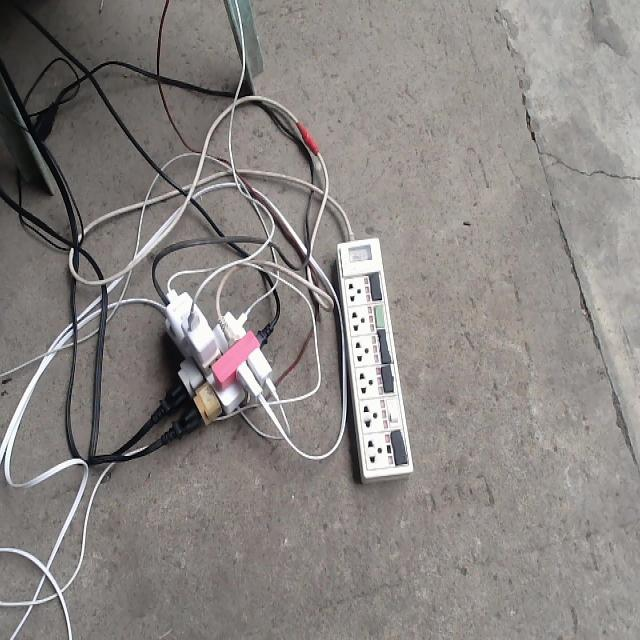-: (147, 280, 273, 444)
